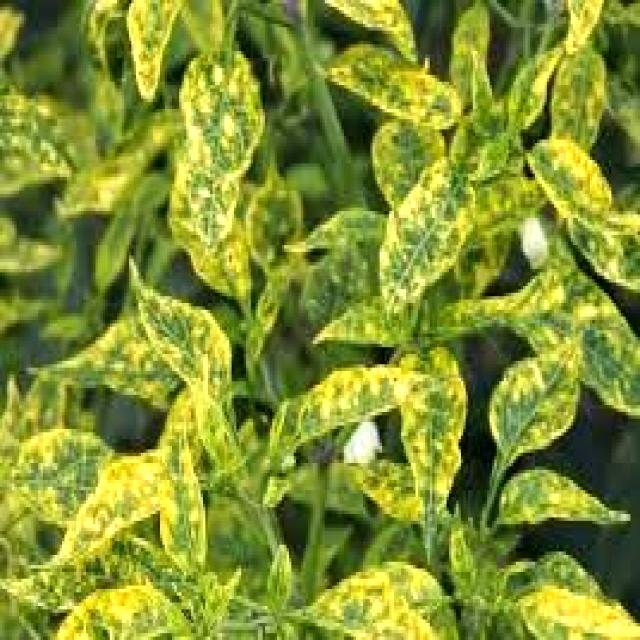yellowish leaf: (0, 10, 640, 637)
